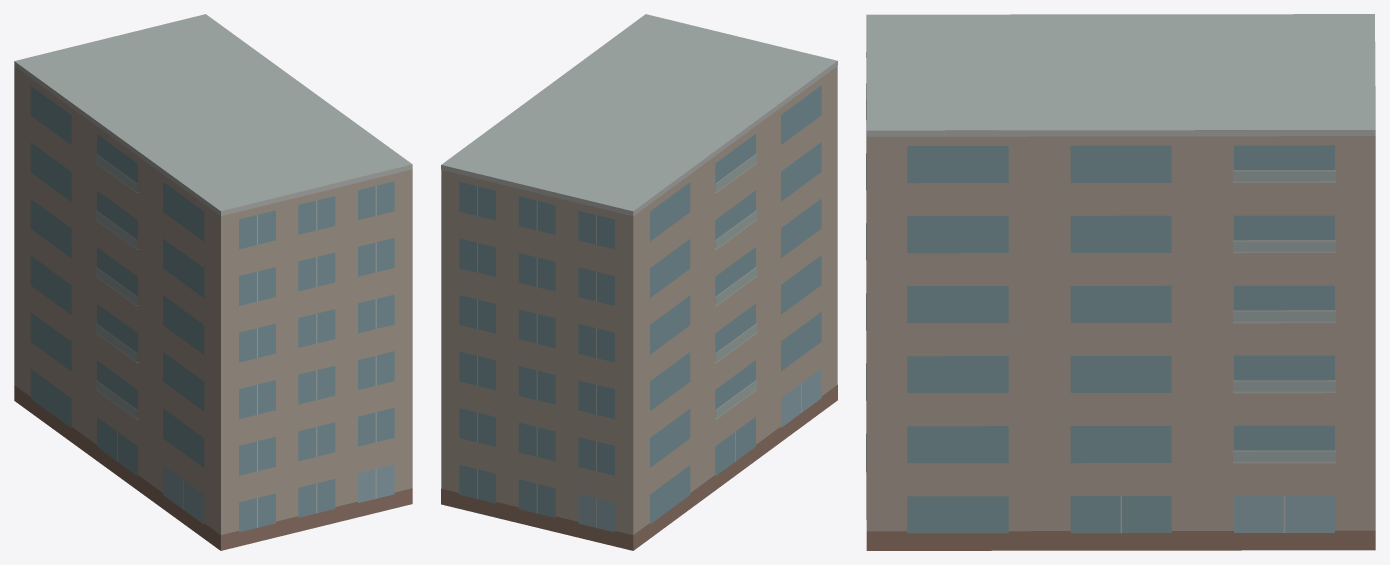
The model's file is survey-upis-32999501.glb.
3 renders of one model, left to right at view 1: azimuth 30°, elevation 25°; view 2: azimuth 150°, elevation 25°; view 3: azimuth 270°, elevation 25°, orthographic. The views are drawn at different scales.
Visible parts, largest first — view 1: survey-upis-32999501.tmp; view 2: survey-upis-32999501.tmp; view 3: survey-upis-32999501.tmp.
Part boxes in pixels (x1,y1,x2,y2): survey-upis-32999501.tmp: [14, 14, 412, 550]; survey-upis-32999501.tmp: [441, 14, 837, 550]; survey-upis-32999501.tmp: [866, 14, 1375, 550].
Size of the model in its own units: 9.95 by 16.7 by 18.36.
